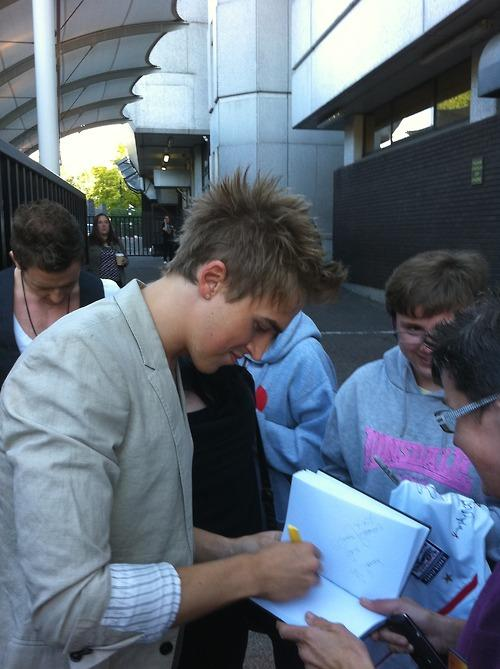person: (1, 181, 321, 667)
